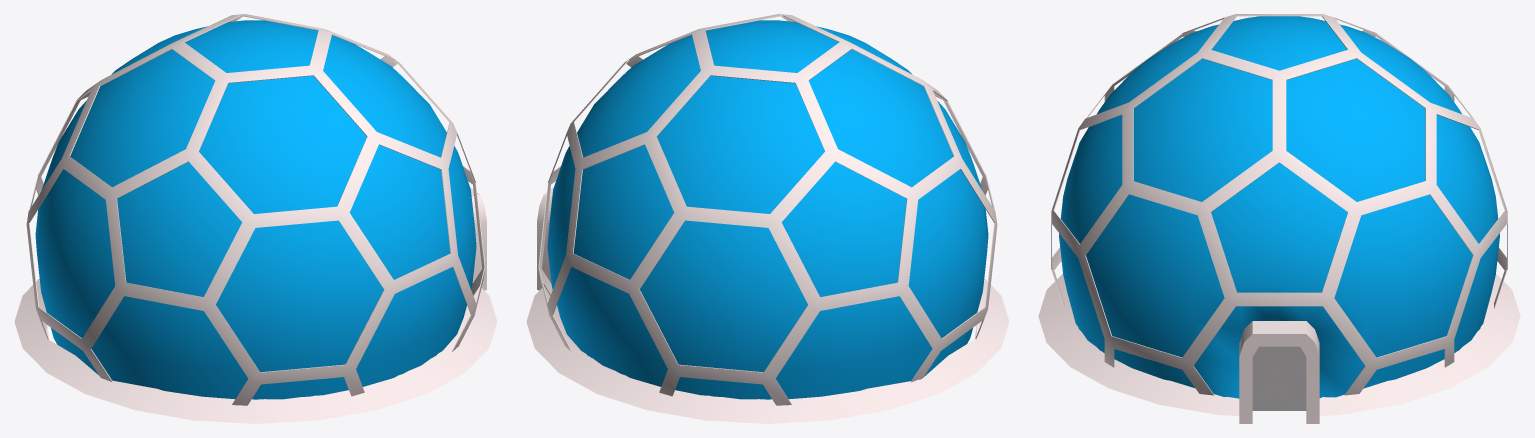
File: casa 1.fbx
3 views of the same model, side by side, from view 1: azimuth 30°, elevation 25°; view 2: azimuth 150°, elevation 25°; view 3: azimuth 270°, elevation 25° (orthographic).
Visible parts, largest first — view 1: Icosphere.008, Icosphere.005; view 2: Icosphere.008, Icosphere.005; view 3: Icosphere.008, Icosphere.005, Icosphere.007.
Boxes of the visible parts, x1,y1,x2,y2 form: Icosphere.008: (35,20,476,399); Icosphere.005: (14,14,497,423); Icosphere.008: (547,20,988,399); Icosphere.005: (526,14,1009,423); Icosphere.008: (1059,16,1499,398); Icosphere.005: (1038,14,1520,423); Icosphere.007: (1252,346,1306,410).
Bounding box in the file's own units: 1517 × 992 × 1511.
Materials: 1 (1 with a texture image).
